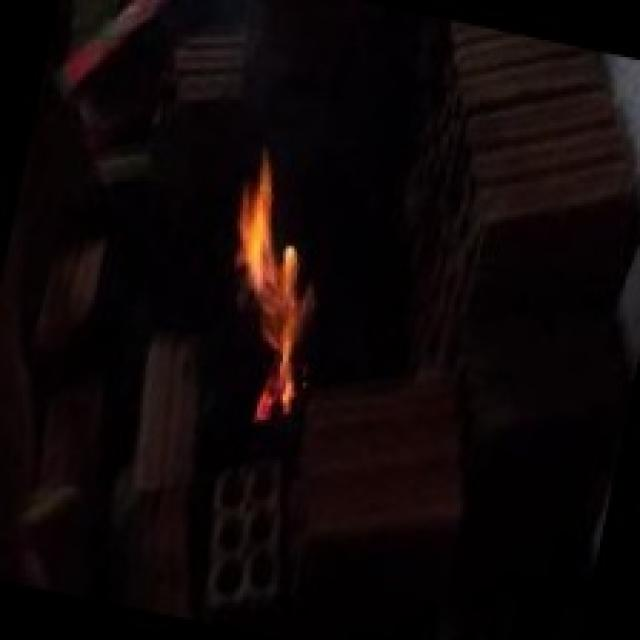fire: (176, 130, 376, 447)
